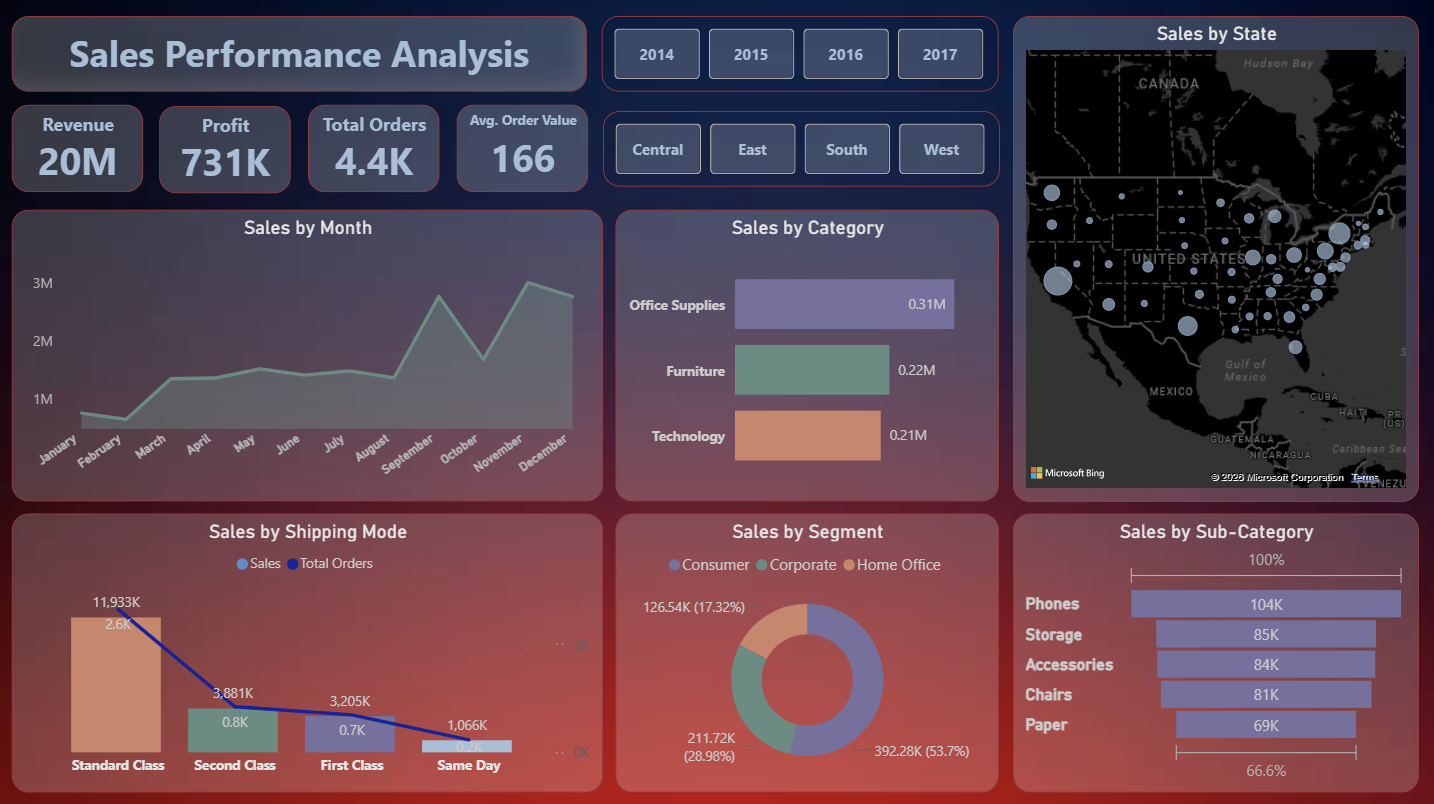

The dashboard page shown, as its layout file describes it:
{"tool":"powerbi","page":{"name":"Page 1","canvas":[1280,720],"ordinal":0},"visuals":[{"type":"clusteredBarChart","title":"Sales by Category","fields":{"Category":["Sales_Data.Category"],"Y":["Sum(Sales_Data.Sales)"]},"box":[549.4,189.9,340.5,259.5],"z":0},{"type":"funnel","title":"Sales by Sub-Category","fields":{"Category":["Sales_Data.Sub-Category"],"Y":["Sum(Sales_Data.Sales)"]},"box":[902.5,459.5,360.8,248.1],"z":1000},{"type":"textbox","box":[12.7,17.7,511.4,67.1],"z":2000},{"type":"map","title":"Sales by State","fields":{"Category":["Sales_Data.State"],"Size":["Sum(Sales_Data.Sales)"]},"box":[902.5,17.7,360.8,431.6],"z":3000},{"type":"stackedAreaChart","title":"Sales by Month","fields":{"Category":["Sales_Data.Order Date.Variation.Date Hierarchy.Month"],"Y":["Sum(Sales_Data.Sales)"]},"box":[12.7,189.9,525.3,259.5],"z":4000},{"type":"advancedSlicerVisual","fields":{"Values":["Sales_Data.Order Date.Variation.Date Hierarchy.Year"]},"box":[536.7,17.7,353.2,67.1],"z":5000},{"type":"card","title":"Revenue","fields":{"Values":["Sum(Sales_Data.Sales)"]},"box":[12.7,96.2,116.5,77.2],"z":6000},{"type":"card","title":"Profit","fields":{"Values":["Sum(Sales_Data.Profit)"]},"box":[143,97.5,116.5,77.2],"z":7000},{"type":"card","title":"Total Orders","fields":{"Values":["Sales_Data.Total Orders"]},"box":[275.9,96.2,116.5,77.2],"z":8000},{"type":"card","title":"Avg. Order Value","fields":{"Values":["Sales_Data.Avg. Order Value"]},"box":[407.6,96.2,116.5,77.2],"z":9000},{"type":"advancedSlicerVisual","fields":{"Values":["Sales_Data.Region"]},"box":[538,102.5,353.2,67.1],"z":10000},{"type":"lineClusteredColumnComboChart","title":"Sales by Shipping Mode","fields":{"Category":["Sales_Data.Ship Mode"],"Y":["Sum(Sales_Data.Sales)"],"Y2":["Sales_Data.Total Orders"]},"box":[12.7,459.5,525.3,248.1],"z":11000},{"type":"donutChart","title":"Sales by Segment","fields":{"Y":["Sum(Sales_Data.Sales)"],"Category":["Sales_Data.Segment"]},"box":[549.4,459.5,340.5,248.1],"z":12000}]}

Visuals, with their boxes in screenshot pixels (x1, y1, x2, y2), scaled from the page's 1280x720 canvas onto the 1434x804 screenshot:
"Sales by Category" clusteredBarChart: locate(615, 212, 997, 502)
"Sales by Sub-Category" funnel: locate(1011, 513, 1415, 790)
textbox: locate(14, 20, 587, 95)
"Sales by State" map: locate(1011, 20, 1415, 502)
"Sales by Month" stackedAreaChart: locate(14, 212, 603, 502)
advancedSlicerVisual - Sales_Data.Order Date.Variation.Date Hierarchy.Year: locate(601, 20, 997, 95)
"Revenue" card: locate(14, 107, 145, 194)
"Profit" card: locate(160, 109, 291, 195)
"Total Orders" card: locate(309, 107, 440, 194)
"Avg. Order Value" card: locate(457, 107, 587, 194)
advancedSlicerVisual - Sales_Data.Region: locate(603, 114, 998, 189)
"Sales by Shipping Mode" lineClusteredColumnComboChart: locate(14, 513, 603, 790)
"Sales by Segment" donutChart: locate(615, 513, 997, 790)
